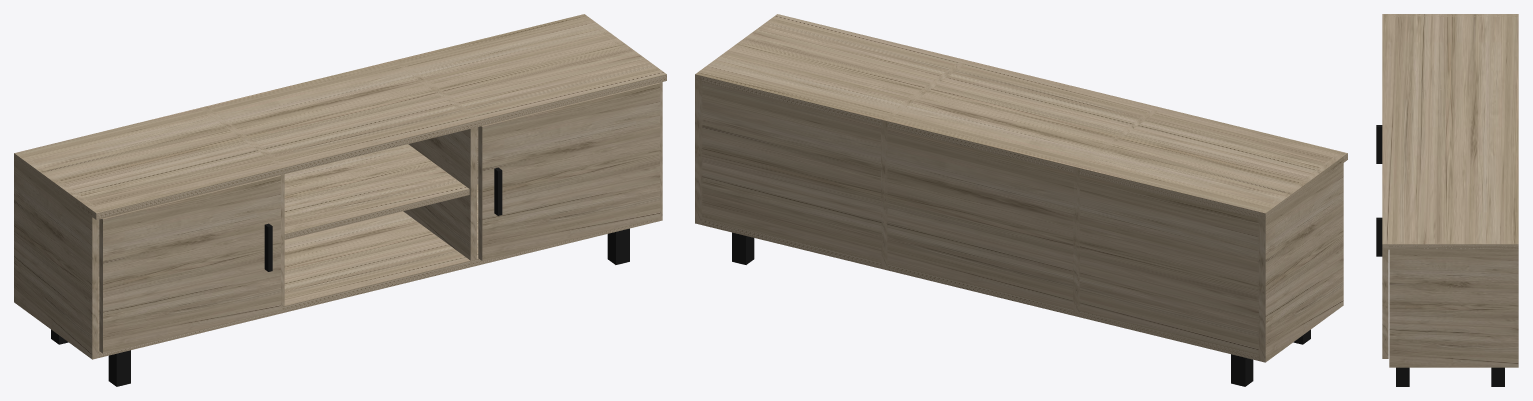
Rendered from tv_komoda_ar.glb.
3 views of the same model, side by side, from view 1: azimuth 30°, elevation 25°; view 2: azimuth 150°, elevation 25°; view 3: azimuth 270°, elevation 25° (orthographic). The views are drawn at different scales.
Visible parts, largest first — view 1: korpus, vrata_desno, vrata_levo; view 2: korpus; view 3: korpus, vrata_desno, vrata_levo.
Boxes of the visible parts, x1=… form: korpus: x1=14, y1=14, x2=666, y2=386; vrata_desno: x1=478, y1=83, x2=660, y2=260; vrata_levo: x1=99, y1=175, x2=280, y2=353; korpus: x1=695, y1=14, x2=1347, y2=386; korpus: x1=1382, y1=14, x2=1518, y2=386; vrata_desno: x1=1376, y1=217, x2=1388, y2=358; vrata_levo: x1=1376, y1=125, x2=1382, y2=163.
Size of the model in its own units: 1.6 by 0.5 by 0.418.
Materials: 2 (1 with a texture image).
